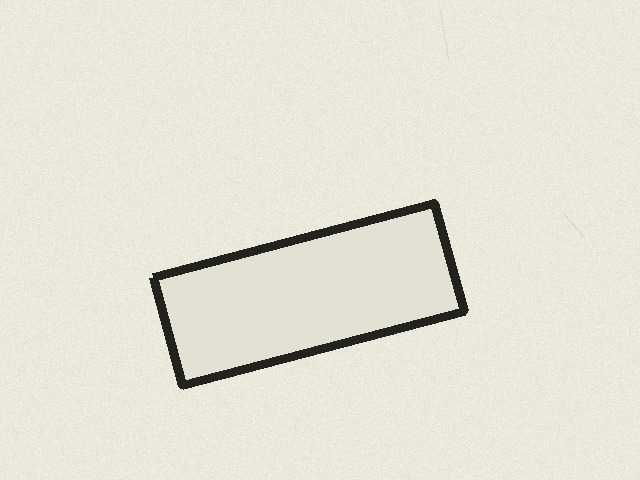parking_area: (153, 203, 464, 385)
